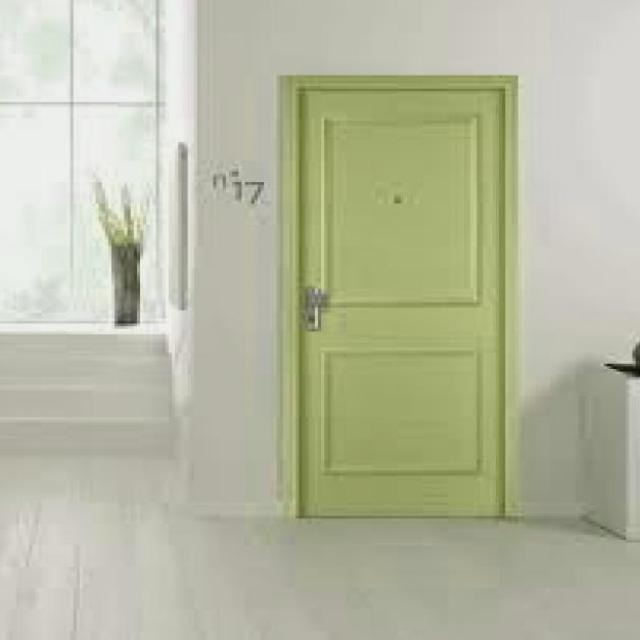door: (290, 77, 509, 518)
